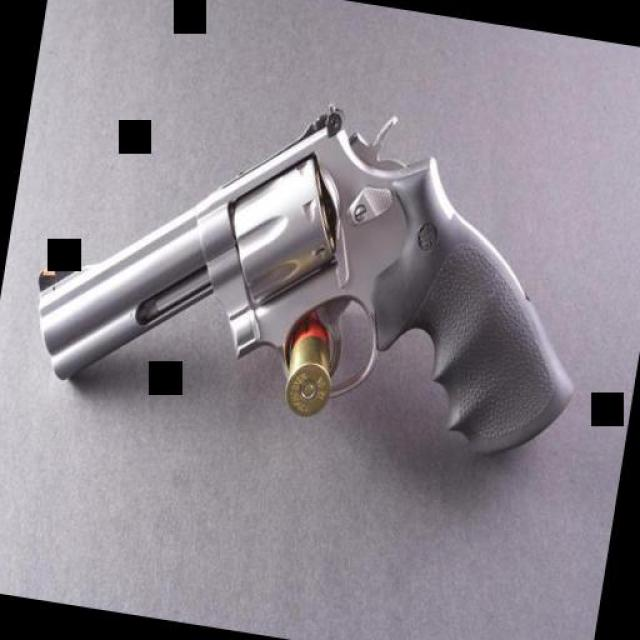gun: (10, 55, 612, 520)
